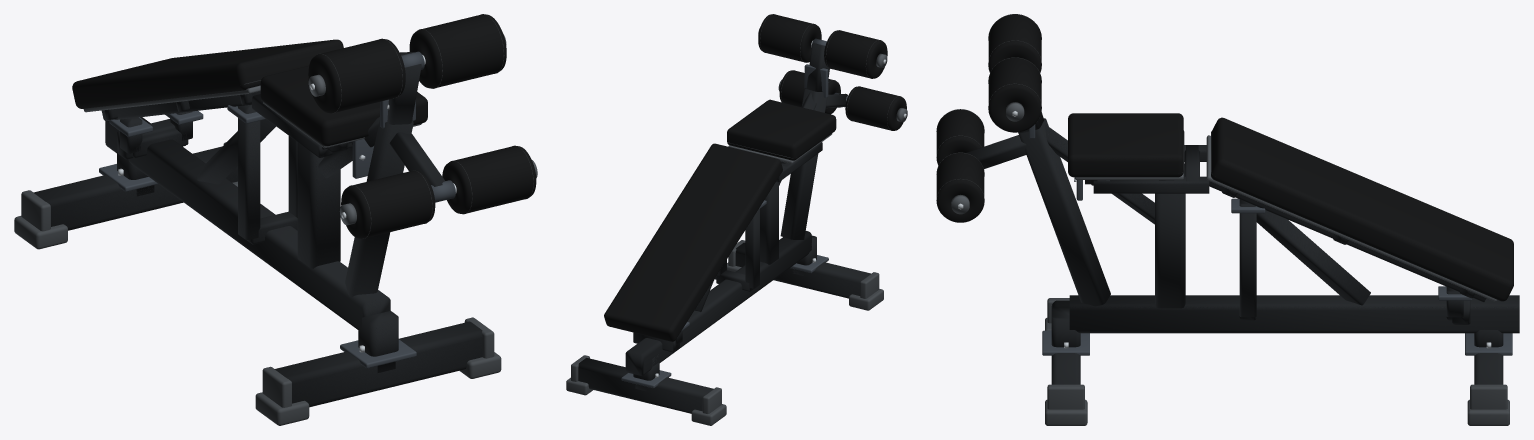
File: decline_weight_bench.glb
3 views of the same model, side by side, from view 1: azimuth 30°, elevation 25°; view 2: azimuth 150°, elevation 25°; view 3: azimuth 270°, elevation 25° (orthographic). The views are drawn at different scales.
Parts seen in each view (by area): view 1: MainFrame_Frame, UpperLegRoller_Padding, BackrestCushion_Padding, FrontStabilizerFoot_Frame, BackrestSupport_Frame, LegAnchorFrame_Frame, RubberEndCaps_Rubber, SeatCushion_Padding, RearStabilizerFoot_Frame, RightAnkleRoller_Padding, LeftAnkleRoller_Padding, BackrestFrame_Frame (+10 smaller); view 2: BackrestCushion_Padding, MainFrame_Frame, UpperLegRoller_Padding, SeatCushion_Padding, RearStabilizerFoot_Frame, LegAnchorFrame_Frame, RubberEndCaps_Rubber, FrontStabilizerFoot_Frame, LeftAnkleRoller_Padding, BackrestSupport_Frame, RightAnkleRoller_Padding, RearSupport_Trim (+2 smaller); view 3: MainFrame_Frame, BackrestCushion_Padding, SeatCushion_Padding, LegAnchorFrame_Frame, UpperLegRoller_Padding, BackrestSupport_Frame, RubberEndCaps_Rubber, RightAnkleRoller_Padding, LeftAnkleRoller_Padding, BackrestFrame_Frame, BackrestFrame_Cap, RollerMountingArms_Frame (+7 smaller).
Part boxes in pixels (bbox=[...]): MainFrame_Frame: bbox=[105, 94, 390, 329]; UpperLegRoller_Padding: bbox=[308, 14, 506, 113]; BackrestCushion_Padding: bbox=[72, 39, 343, 108]; FrontStabilizerFoot_Frame: bbox=[274, 321, 482, 407]; BackrestSupport_Frame: bbox=[120, 104, 297, 244]; LegAnchorFrame_Frame: bbox=[318, 52, 421, 297]; RubberEndCaps_Rubber: bbox=[14, 142, 501, 425]; SeatCushion_Padding: bbox=[260, 65, 427, 146]; RearStabilizerFoot_Frame: bbox=[33, 146, 237, 230]; RightAnkleRoller_Padding: bbox=[442, 146, 536, 214]; LeftAnkleRoller_Padding: bbox=[341, 170, 435, 238]; BackrestFrame_Frame: bbox=[101, 91, 260, 120]; BackrestCushion_Padding: bbox=[604, 143, 782, 341]; MainFrame_Frame: bbox=[625, 142, 822, 375]; UpperLegRoller_Padding: bbox=[758, 14, 887, 78]; SeatCushion_Padding: bbox=[727, 99, 836, 160]; RearStabilizerFoot_Frame: bbox=[578, 358, 713, 413]; LegAnchorFrame_Frame: bbox=[779, 43, 829, 239]; RubberEndCaps_Rubber: bbox=[566, 240, 883, 425]; FrontStabilizerFoot_Frame: bbox=[735, 242, 871, 298]; LeftAnkleRoller_Padding: bbox=[845, 86, 906, 130]; BackrestSupport_Frame: bbox=[675, 209, 759, 344]; RightAnkleRoller_Padding: bbox=[779, 70, 840, 114]; RearSupport_Trim: bbox=[621, 370, 671, 388]; MainFrame_Frame: bbox=[1069, 145, 1519, 333]; BackrestCushion_Padding: bbox=[1211, 117, 1513, 301]; SeatCushion_Padding: bbox=[1068, 113, 1183, 177]; LegAnchorFrame_Frame: bbox=[1018, 112, 1154, 306]; UpperLegRoller_Padding: bbox=[988, 14, 1041, 132]; BackrestSupport_Frame: bbox=[1239, 199, 1463, 320]; RubberEndCaps_Rubber: bbox=[1045, 298, 1509, 425]; RightAnkleRoller_Padding: bbox=[936, 152, 984, 222]; LeftAnkleRoller_Padding: bbox=[936, 109, 984, 165]; BackrestFrame_Frame: bbox=[1206, 158, 1486, 302]; BackrestFrame_Cap: bbox=[1206, 135, 1497, 301]; RollerMountingArms_Frame: bbox=[966, 135, 1026, 169].
Bounding box in the file's own units: 0.665 × 1.07 × 1.71.
7 materials, 2 textured.
